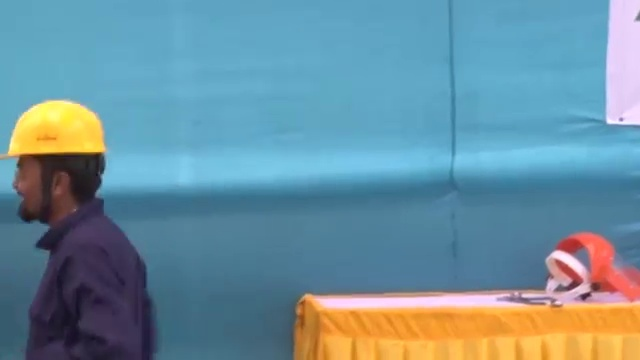helmet: (1, 98, 110, 162)
helmet_on: (1, 98, 110, 221)
person: (2, 95, 151, 360)
